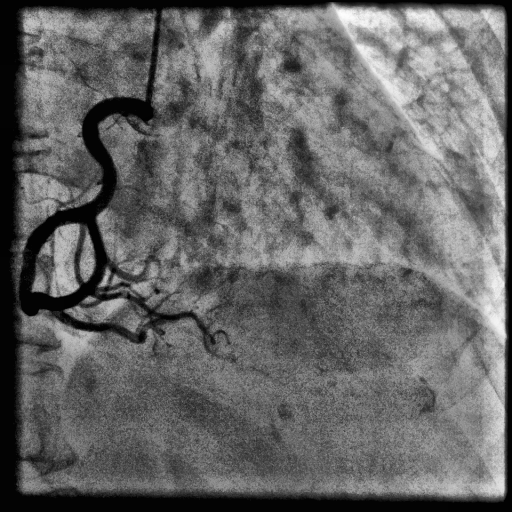pborca: (57, 217, 107, 310)
pda: (51, 311, 215, 345)
rca: (19, 97, 154, 316)
